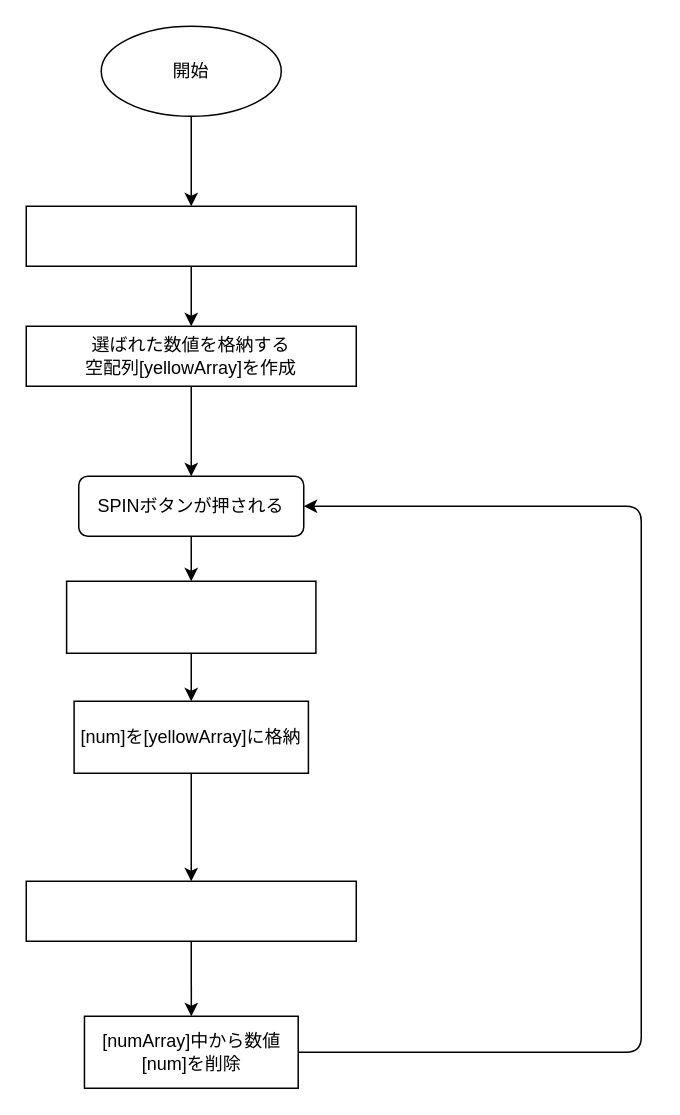
Some shapes in this 680 by 1115 pixel diagram are drawn without their labels. Each missing label, with the centre of its shape:
1〜75までの配列[numArray]を作成: the point at 190,235
[numArray]中からランダムに数値[num]を出力: the point at 190,616
[yellowArray]に格納されている数字を黄色にする: the point at 190,910
